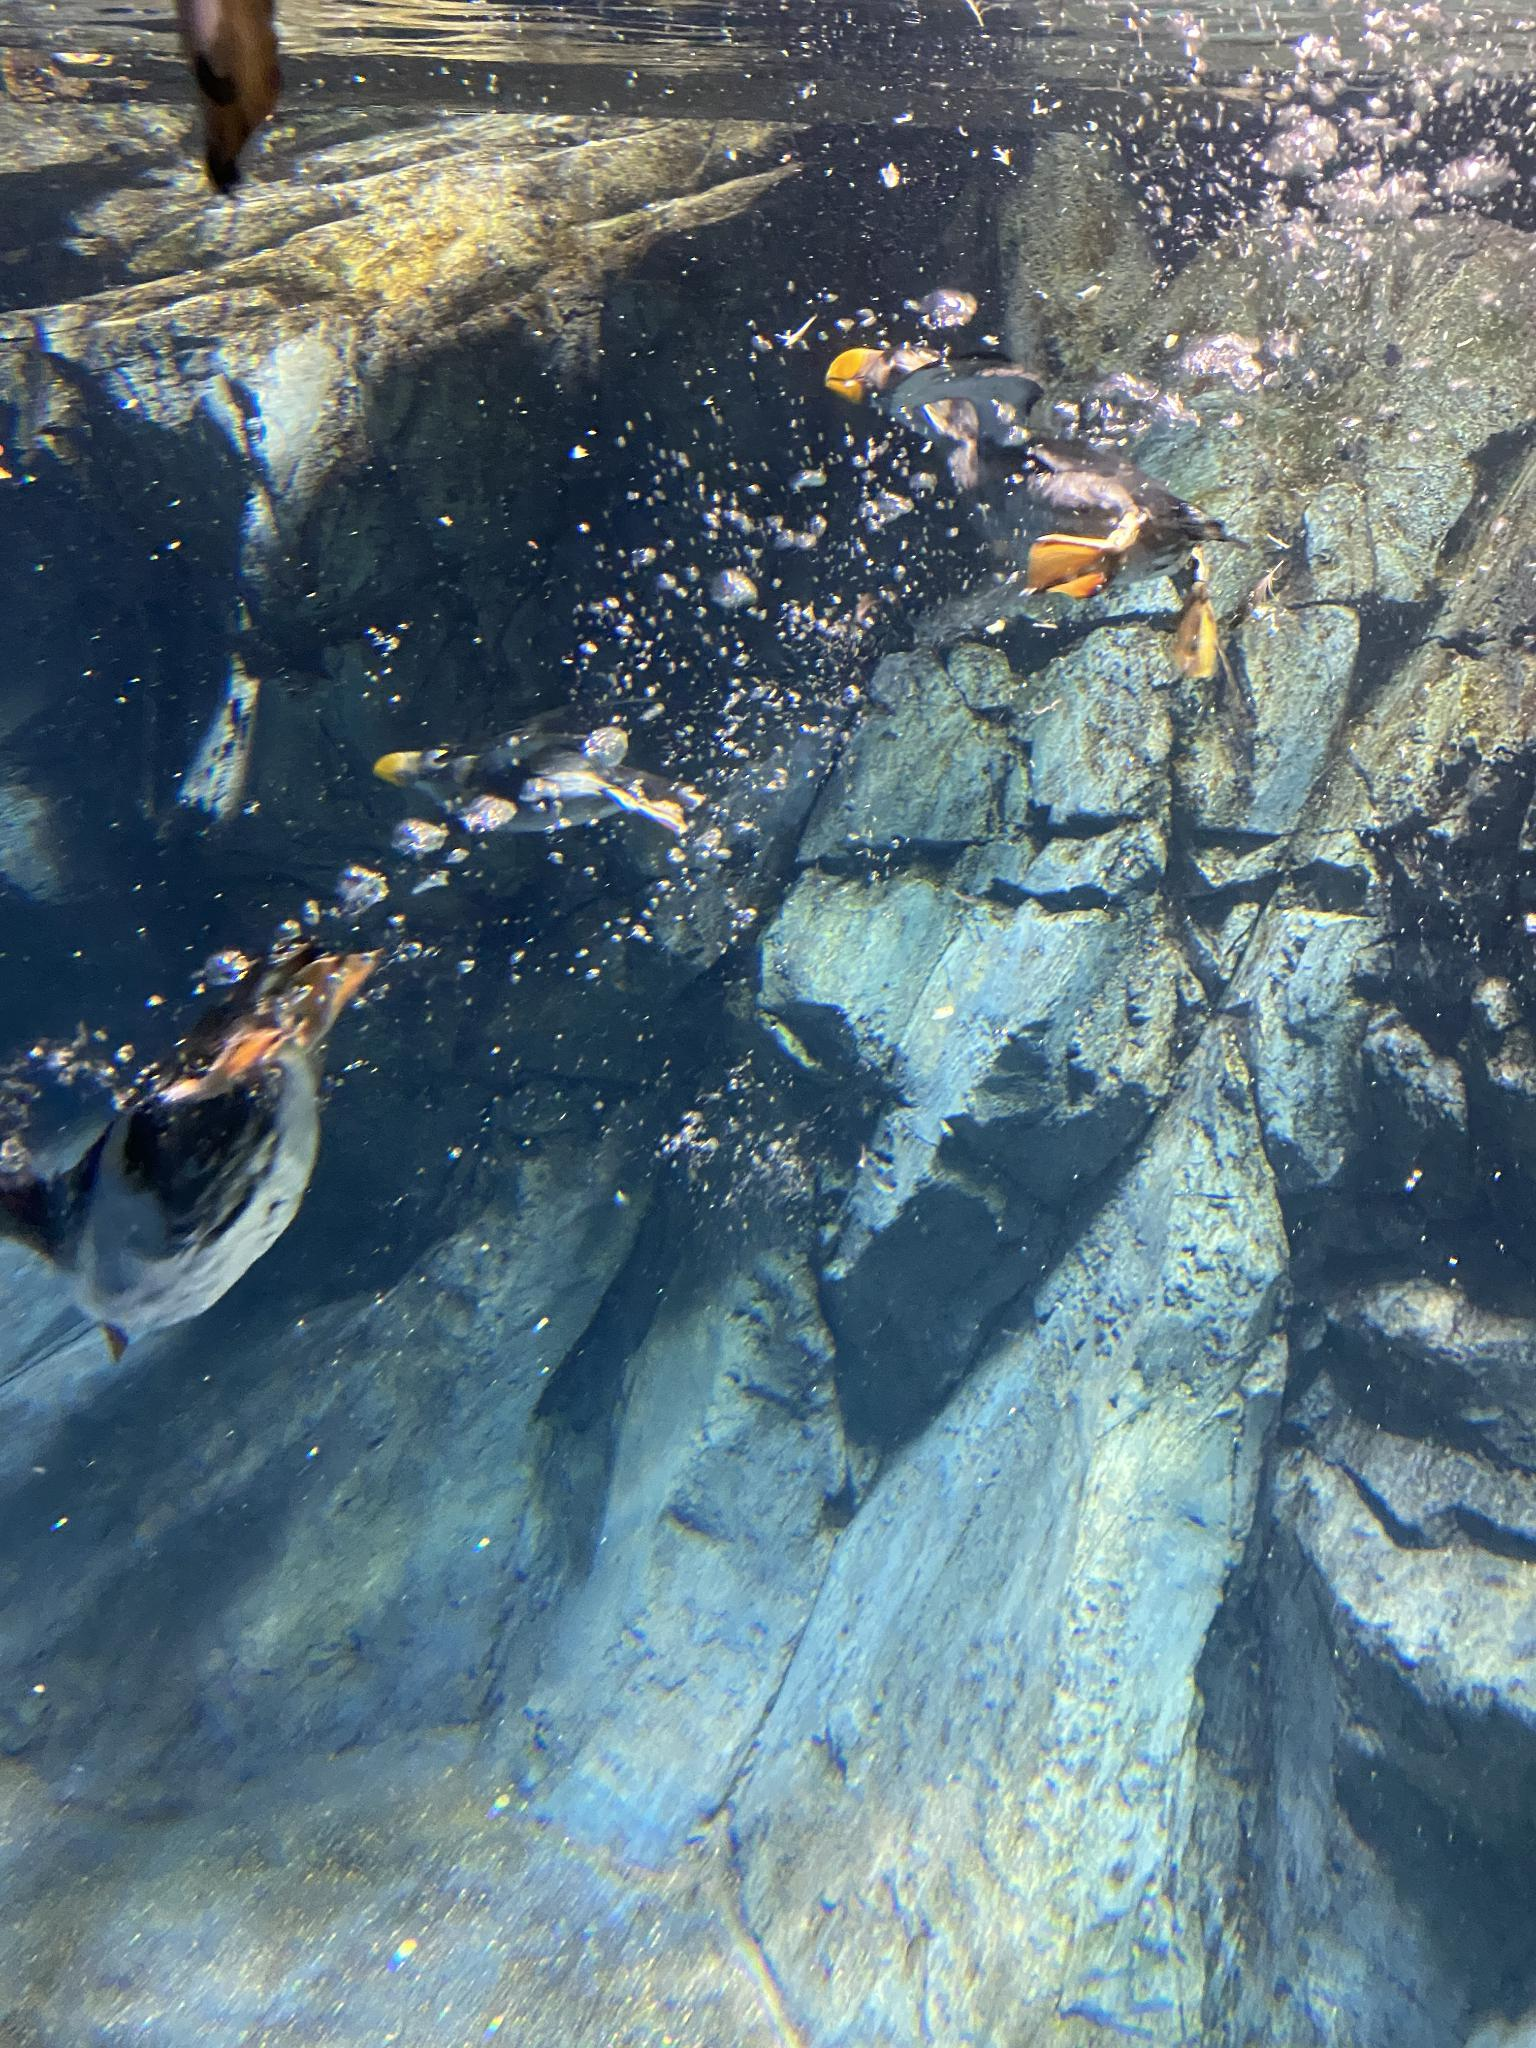puffin: (807, 310, 1292, 684), (13, 924, 386, 1355), (358, 721, 710, 843)
